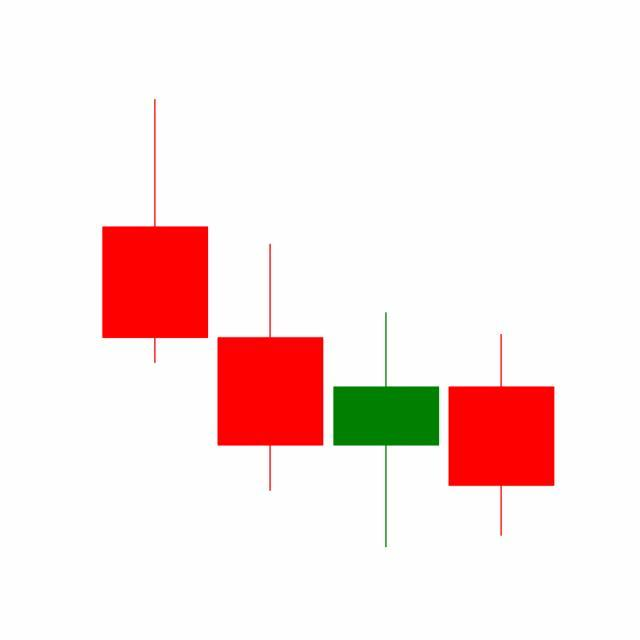Spinning Top: (329, 309, 445, 551)
